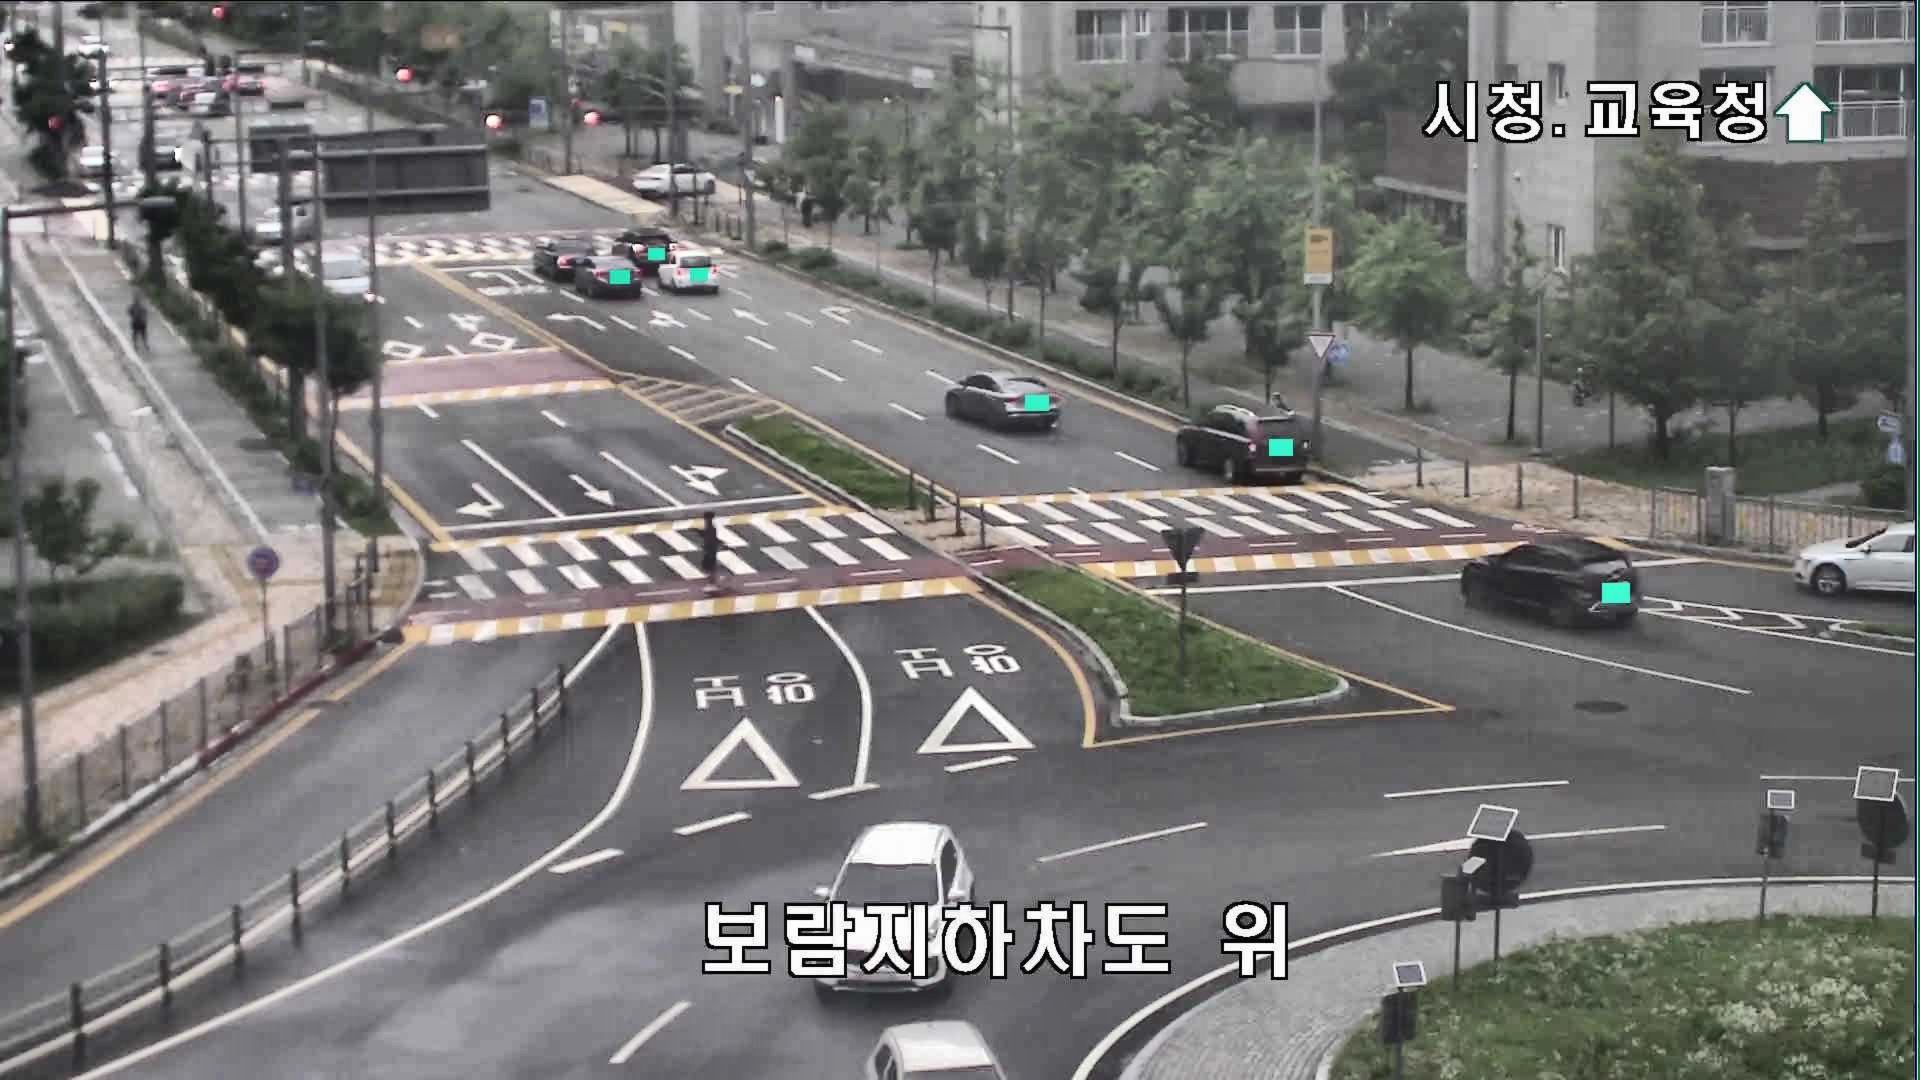crosswalk: (688, 512, 723, 589)
sidewalk: (127, 287, 152, 353)
